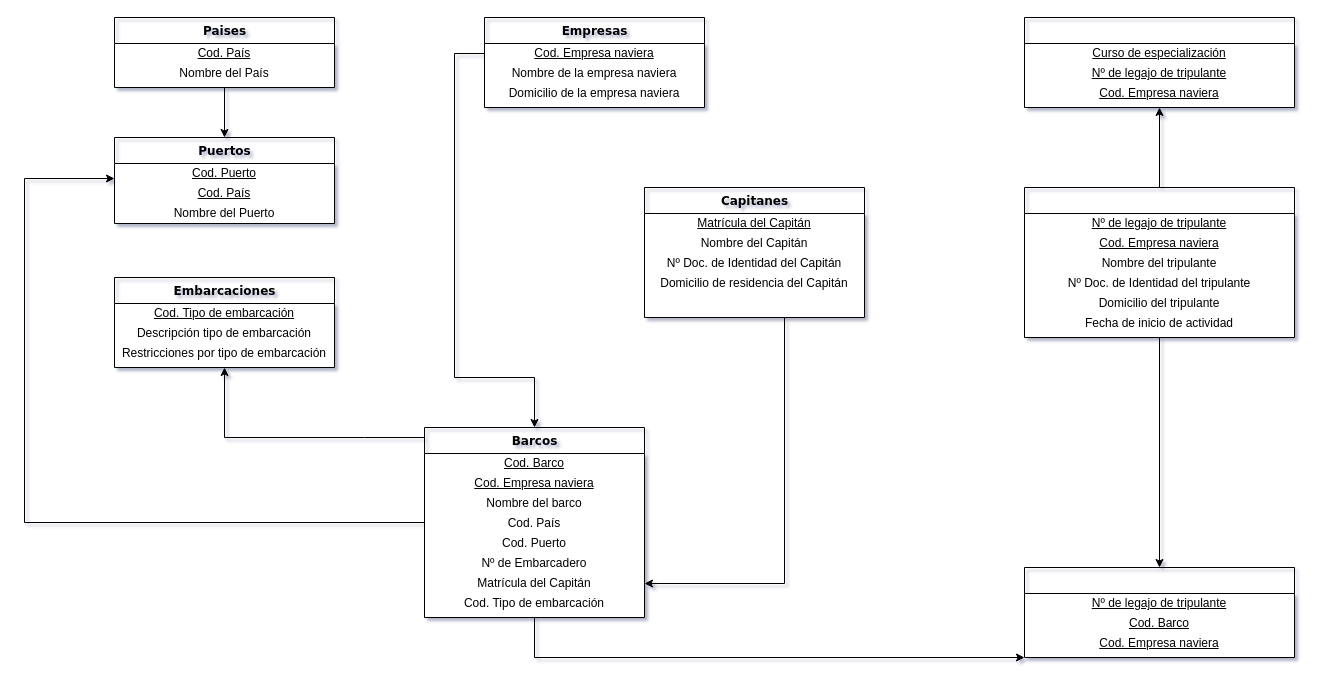
This 1318x689 diagram has some shape labels left out. Each missing label, with the box of its shape:
CursosXTripulante: (1024, 16, 1294, 108)
Tripulación: (1024, 186, 1294, 338)
TripulanteXBarco: (1024, 566, 1294, 658)
